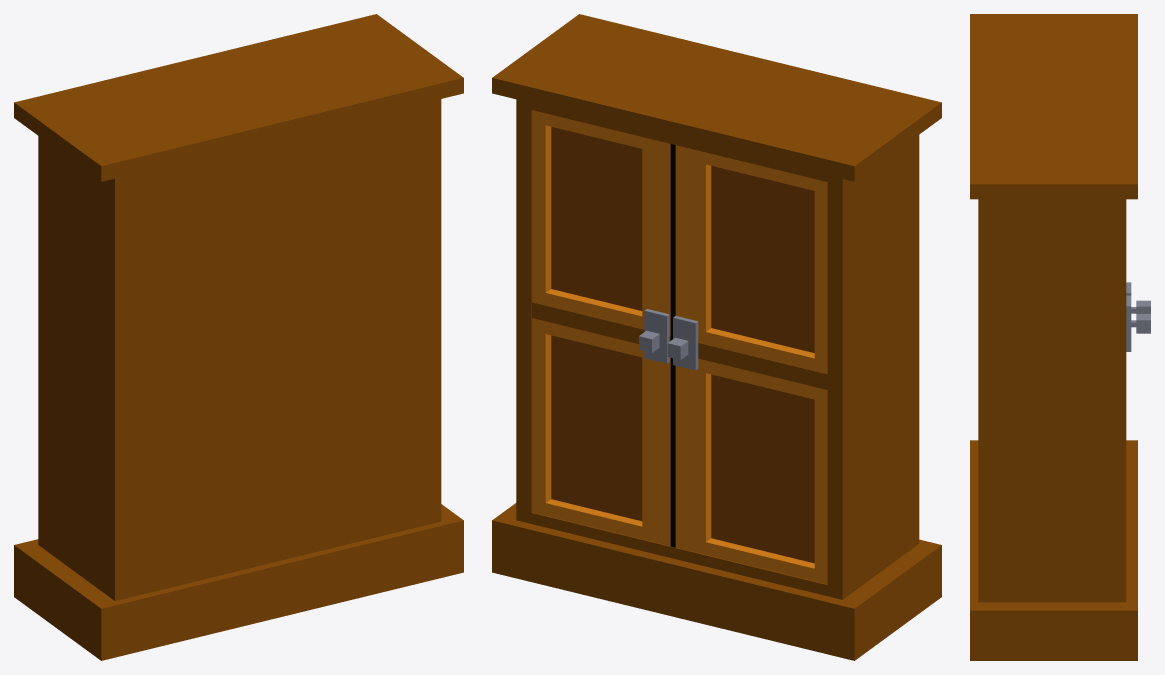
The model's file is wardrobe.glb.
3 renders of one model, left to right at view 1: azimuth 30°, elevation 25°; view 2: azimuth 150°, elevation 25°; view 3: azimuth 270°, elevation 25°, orthographic. The views are drawn at different scales.
Visible parts, largest first — view 1: mergedBlocks(Clone); view 2: mergedBlocks(Clone); view 3: mergedBlocks(Clone).
Boxes of the visible parts, box(x1,y1,x2,y2) form: mergedBlocks(Clone): box(14, 14, 463, 660); mergedBlocks(Clone): box(492, 14, 941, 660); mergedBlocks(Clone): box(970, 14, 1150, 660).
Size of the model in its own units: 2.4 by 3.13 by 1.08.
